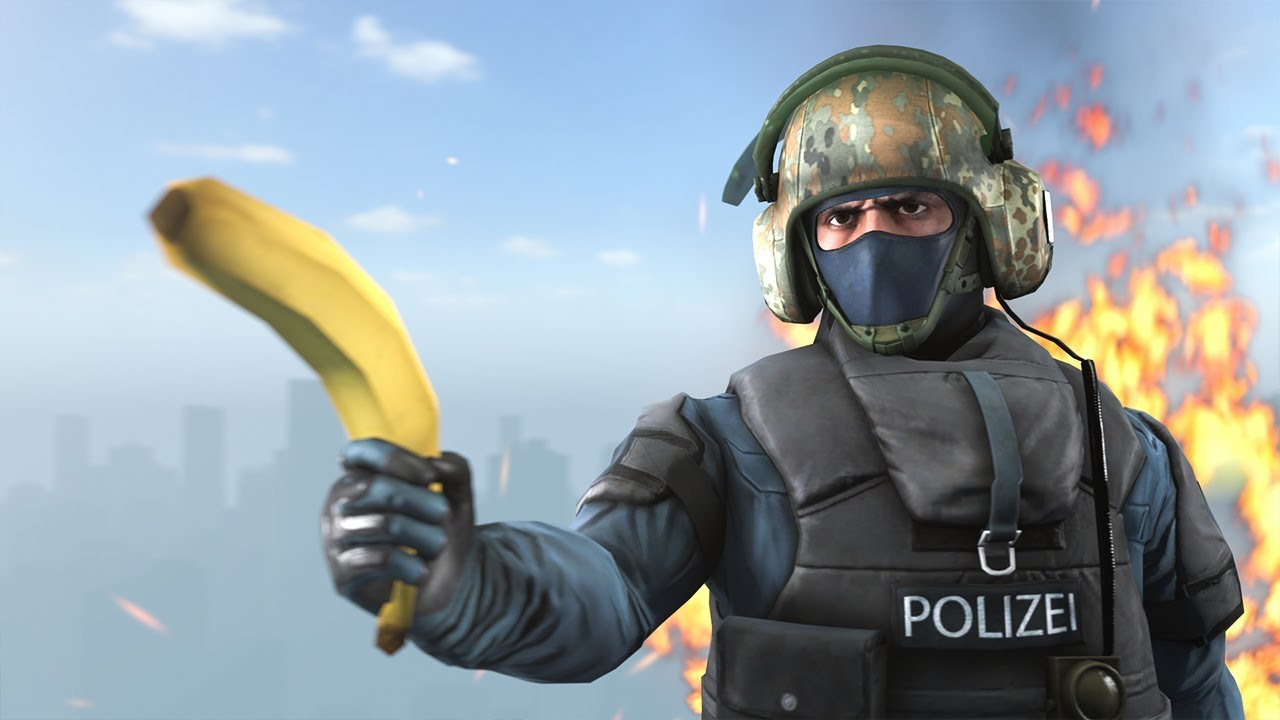c: (457, 33, 1254, 720)
ch: (744, 42, 1042, 362)
